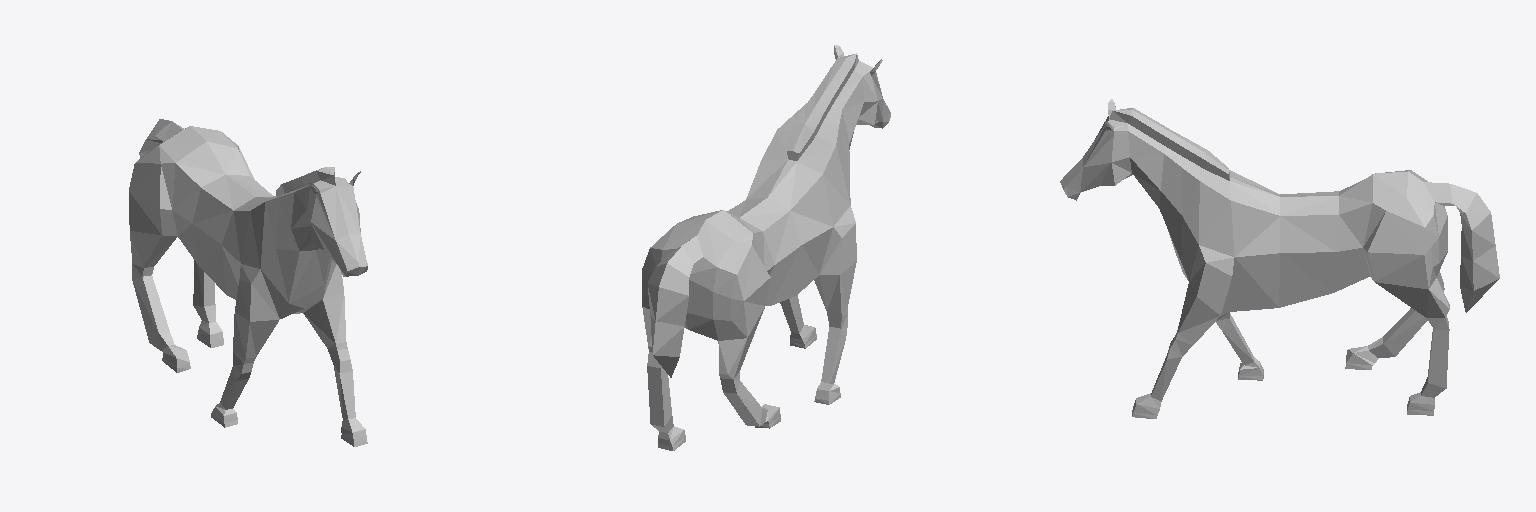
File: Horse4.obj
3 renders of one model, left to right at view 1: azimuth 30°, elevation 25°; view 2: azimuth 150°, elevation 25°; view 3: azimuth 270°, elevation 25°, orthographic.
Parts seen in each view (by area): view 1: Horse; view 2: Horse; view 3: Horse.
Part boxes in pixels (left/top/right/bottom): Horse: left=129, top=119, right=367, bottom=446; Horse: left=642, top=45, right=890, bottom=450; Horse: left=1060, top=99, right=1499, bottom=418.
Bounding box in the file's own units: 2.59 × 6.67 × 9.22.